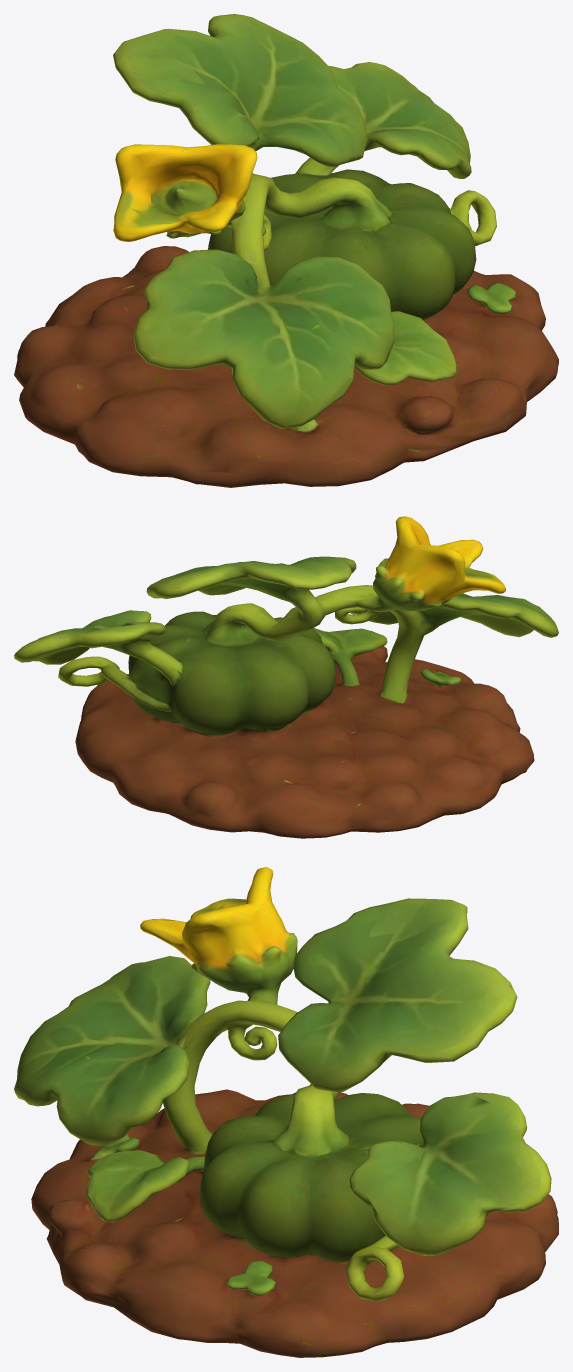
3 renders of one model, top to bottom at view 1: azimuth 30°, elevation 25°; view 2: azimuth 150°, elevation 25°; view 3: azimuth 270°, elevation 25°, orthographic. The views are drawn at different scales.
Parts seen in each view (by area): view 1: pumpkin-growing; view 2: pumpkin-growing; view 3: pumpkin-growing.
Boxes of the visible parts, x1,y1,x2,y2 form: pumpkin-growing: (14, 14, 558, 487); pumpkin-growing: (14, 516, 558, 838); pumpkin-growing: (14, 867, 558, 1357).
Bounding box in the file's own units: 0.7952 × 0.4493 × 0.7457.
1 material, 1 textured.
